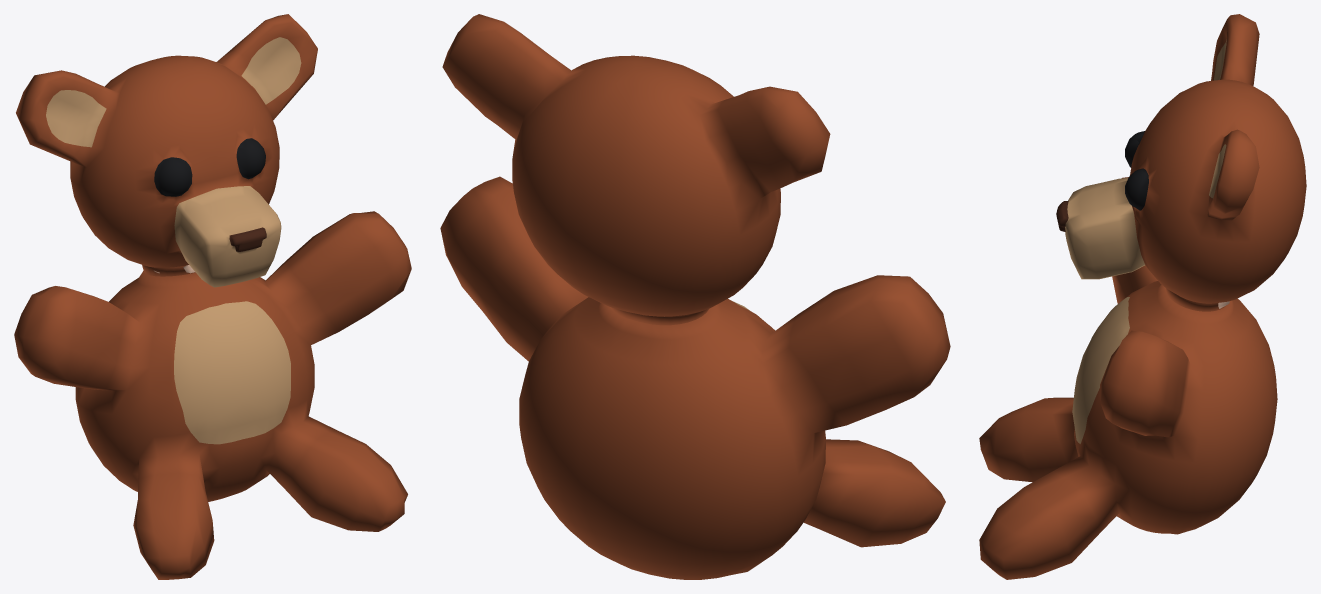
File: Teddy_Separate.fbx
3 renders of one model, left to right at view 1: azimuth 30°, elevation 25°; view 2: azimuth 150°, elevation 25°; view 3: azimuth 270°, elevation 25°, orthographic. The views are drawn at different scales.
Parts seen in each view (by area): view 1: Teddy_Body, Teddy_Head; view 2: Teddy_Body, Teddy_Head; view 3: Teddy_Body, Teddy_Head.
Part boxes in pixels (x1,y1,x2,y2): Teddy_Body: (14, 211, 411, 579); Teddy_Head: (16, 14, 317, 287); Teddy_Body: (440, 176, 950, 579); Teddy_Head: (442, 14, 830, 325); Teddy_Body: (979, 177, 1277, 579); Teddy_Head: (1056, 14, 1306, 311).
Bounding box in the file's own units: 0.364 × 0.3842 × 0.2571.
